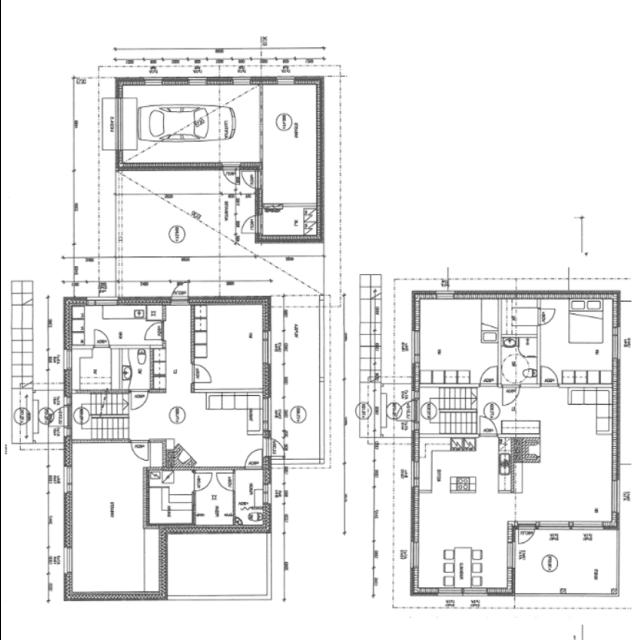door: (394, 397, 422, 425), (237, 210, 259, 238), (215, 469, 237, 495), (237, 167, 262, 189), (539, 365, 561, 389), (478, 415, 500, 439), (128, 439, 150, 463), (266, 437, 286, 463), (91, 328, 114, 350), (500, 380, 518, 408), (143, 320, 163, 345), (221, 167, 245, 187), (517, 523, 535, 549), (191, 472, 213, 493), (191, 366, 213, 386), (45, 405, 69, 423), (128, 389, 148, 410), (480, 365, 499, 387), (245, 449, 263, 472), (538, 308, 554, 327)
window: (534, 515, 606, 532), (110, 90, 125, 160), (609, 318, 623, 364), (609, 477, 625, 516), (260, 396, 276, 433), (259, 329, 276, 363), (503, 539, 519, 571), (437, 581, 467, 598), (409, 323, 421, 365), (408, 459, 423, 490), (84, 297, 119, 310), (60, 545, 74, 577), (184, 72, 210, 88), (407, 540, 421, 569), (139, 74, 167, 88), (464, 582, 488, 598), (256, 484, 273, 504), (232, 72, 252, 89), (61, 466, 73, 492), (432, 288, 454, 302), (219, 160, 241, 174), (59, 350, 71, 373), (273, 74, 295, 84), (61, 425, 69, 439), (63, 393, 71, 405)
